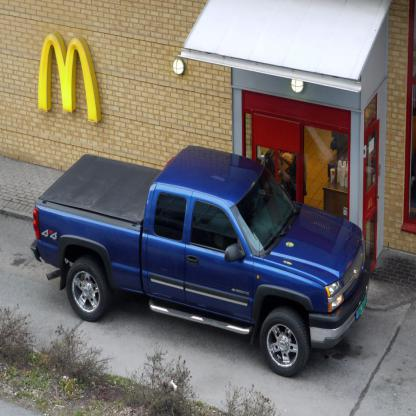Truck: (30, 145, 370, 377)
